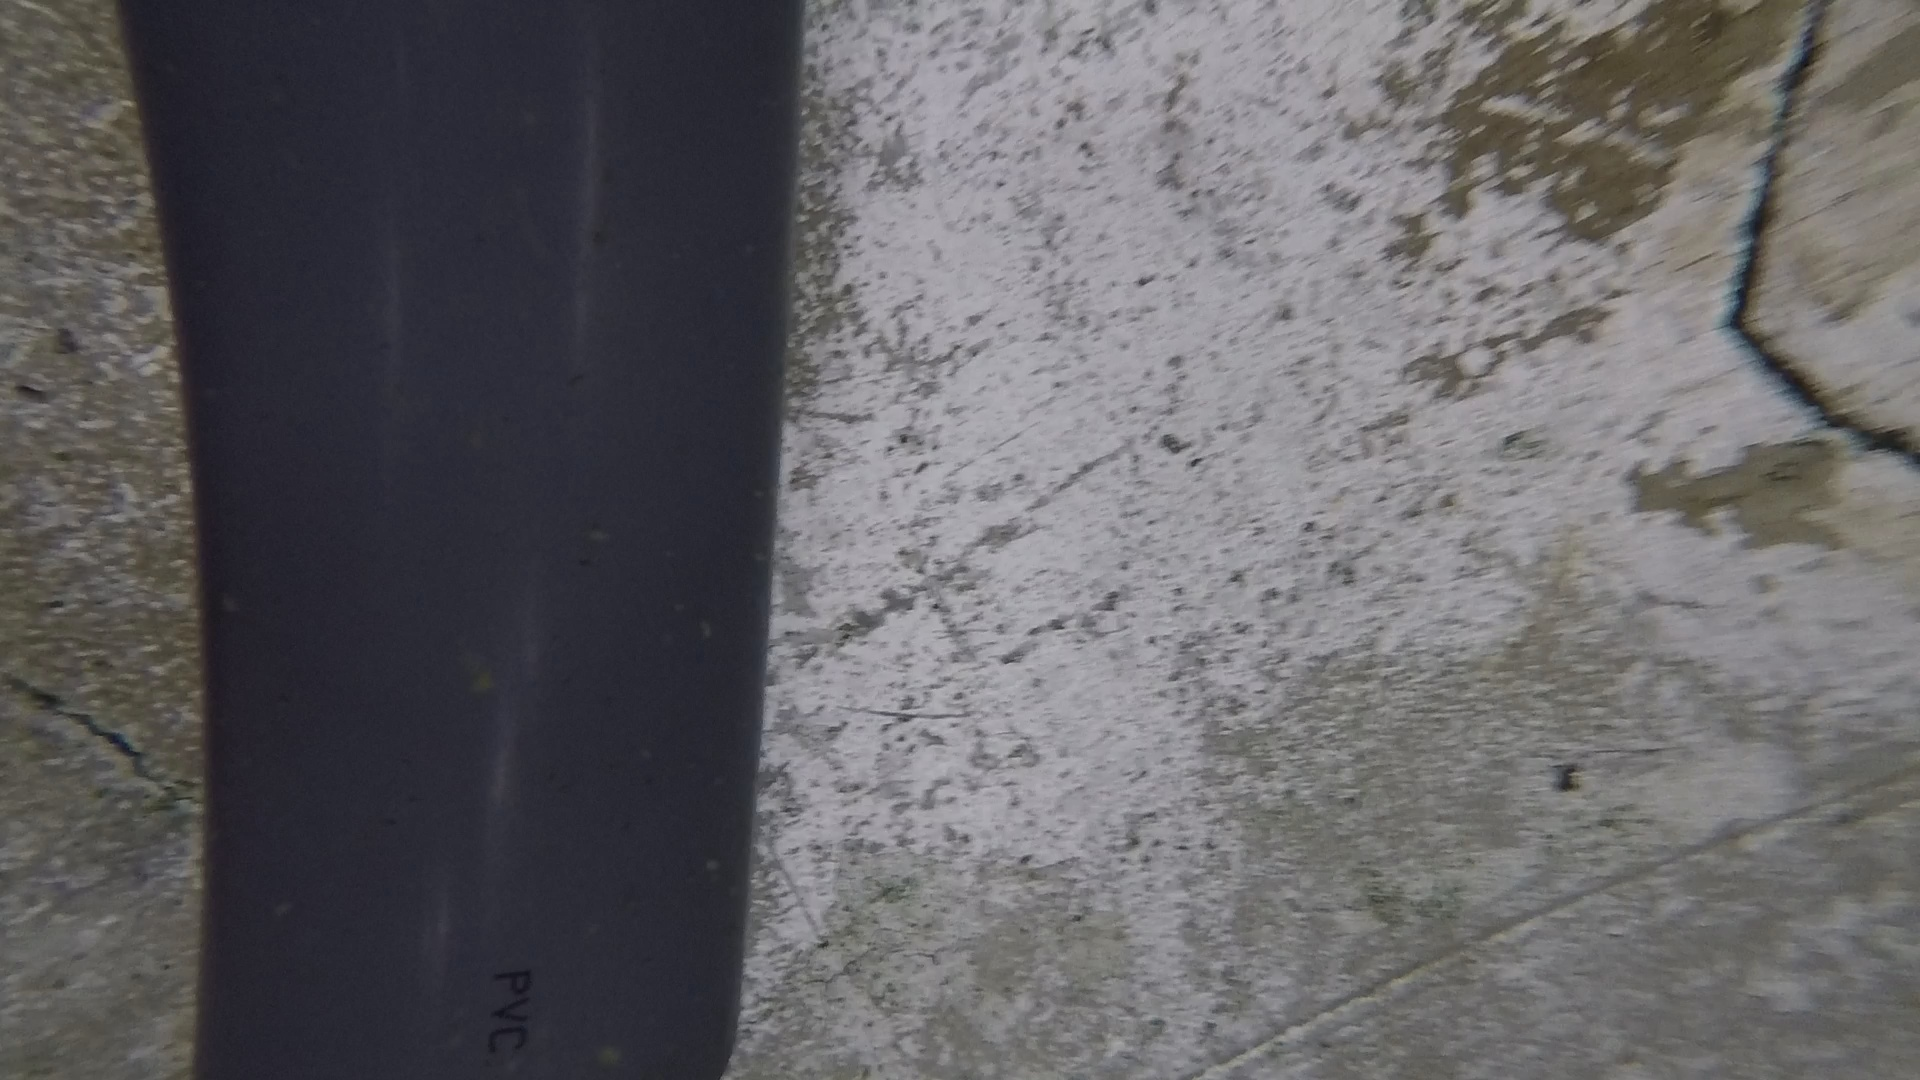pipe: (92, 1, 799, 1080)
